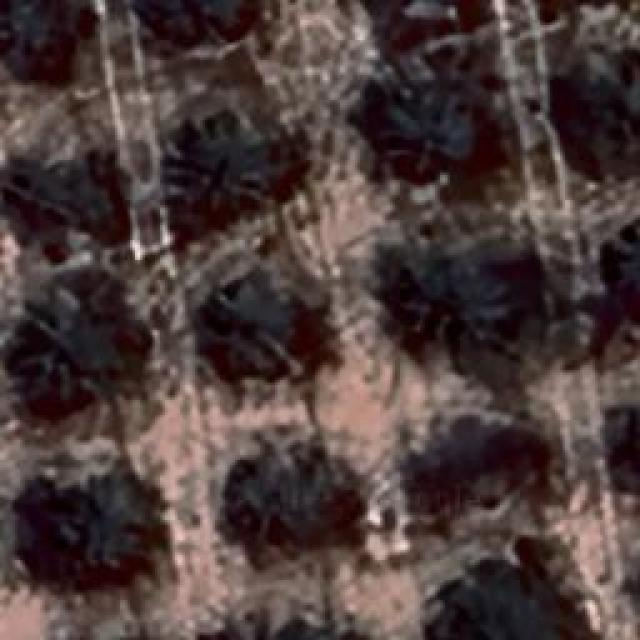PalmTree: (199, 274, 319, 412), (152, 118, 288, 232), (394, 238, 518, 362), (444, 547, 607, 640), (402, 422, 552, 512), (238, 450, 372, 545), (20, 301, 135, 401), (38, 480, 158, 570), (0, 141, 122, 226), (362, 75, 462, 165), (550, 54, 640, 148), (196, 598, 378, 640), (138, 0, 253, 52), (596, 214, 640, 330), (0, 0, 70, 70), (599, 390, 640, 496)
